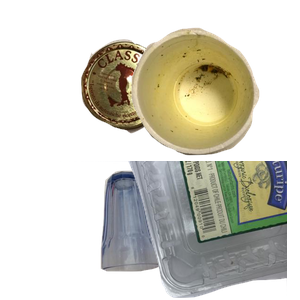glass: (98, 168, 251, 300)
metal: (78, 37, 243, 163)
plastic: (60, 161, 300, 300)
trash: (129, 25, 300, 173)
